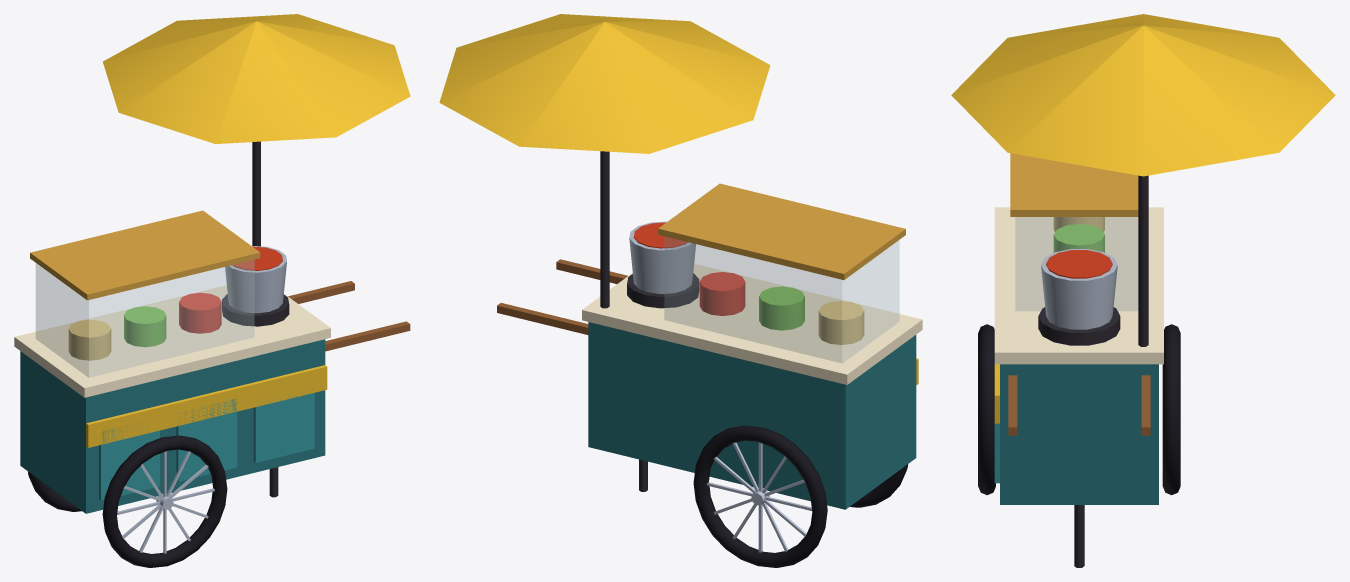
Rendered from food_cart.glb.
3 views of the same model, side by side, from view 1: azimuth 30°, elevation 25°; view 2: azimuth 150°, elevation 25°; view 3: azimuth 270°, elevation 25° (orthographic). The views are drawn at different scales.
Size of the model in its own units: 2.02 by 2.39 by 1.5.
